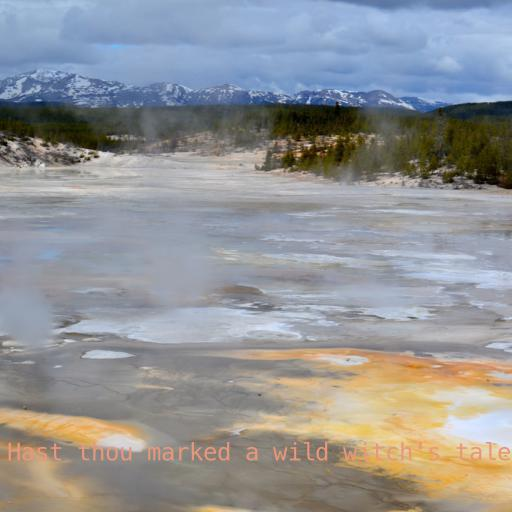Menlo: (7, 442, 511, 461)
